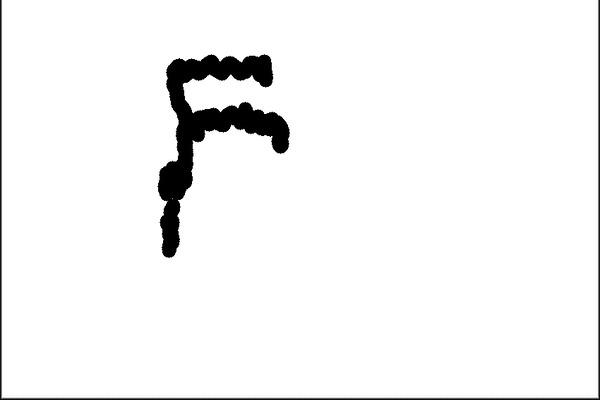F: (151, 50, 295, 261)
